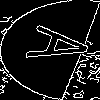A: (24, 25, 100, 69)
